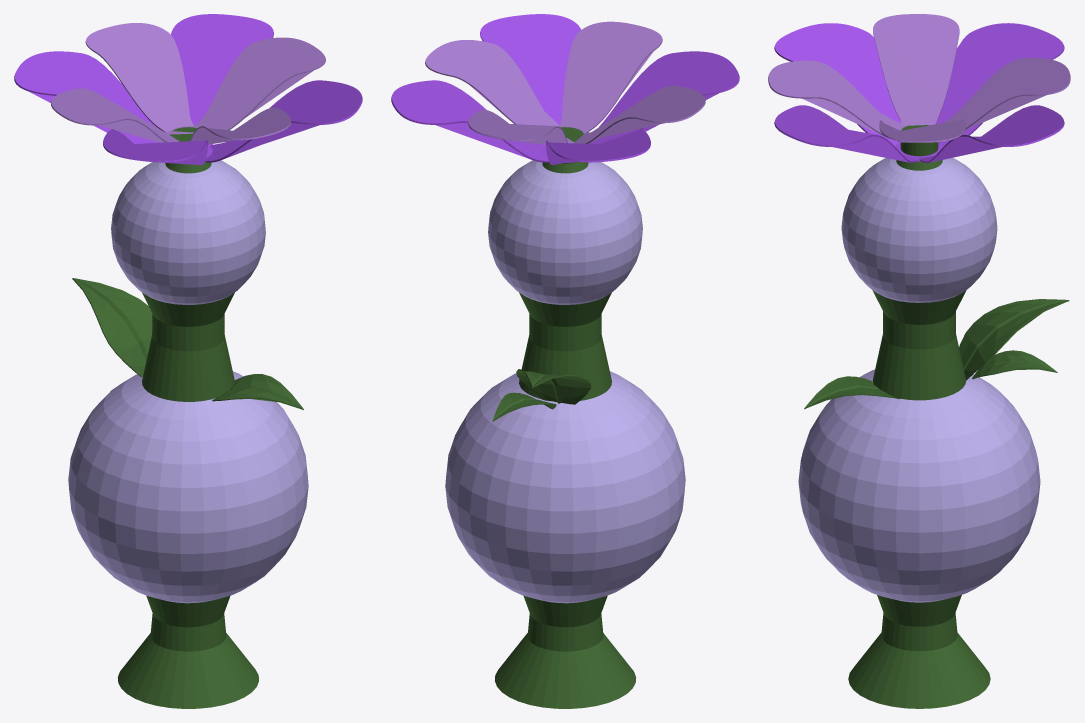
File: fleur 3.2.fbx
3 views of the same model, side by side, from view 1: azimuth 30°, elevation 25°; view 2: azimuth 150°, elevation 25°; view 3: azimuth 270°, elevation 25° (orthographic).
Parts seen in each view (by area): view 1: Sphère.004, Cylindre.001, Sphère.003, Cercle.003, Cercle.004, Cercle.015, Cercle.016; view 2: Sphère.004, Cylindre.001, Sphère.003, Cercle.003, Cercle.004, Cercle.015, Cercle.014; view 3: Sphère.004, Cylindre.001, Sphère.003, Cercle.004, Cercle.003, Cercle.015, Cercle.016, Cercle.014.
Boxes of the visible parts, x1,y1,x2,y2 form: Sphère.004: (68,371,308,603); Cylindre.001: (117,127,258,708); Sphère.003: (111,160,265,304); Cercle.003: (51,23,325,144); Cercle.004: (14,14,362,165); Cercle.015: (72,278,152,376); Cercle.016: (212,374,303,409); Sphère.004: (445,371,685,603); Cylindre.001: (495,127,636,708); Sphère.003: (488,160,642,304); Cercle.003: (425,21,705,144); Cercle.004: (391,14,739,165); Cercle.015: (516,369,591,404); Cercle.014: (492,392,556,421); Sphère.004: (798,369,1040,602); Cylindre.001: (848,125,990,708); Sphère.003: (841,157,997,302); Cercle.004: (774,23,1064,163); Cercle.003: (768,14,1070,142); Cercle.015: (959,299,1069,380); Cercle.016: (804,376,899,409); Cercle.014: (972,350,1057,379).
Size of the model in its own units: 248 by 544 by 248.
